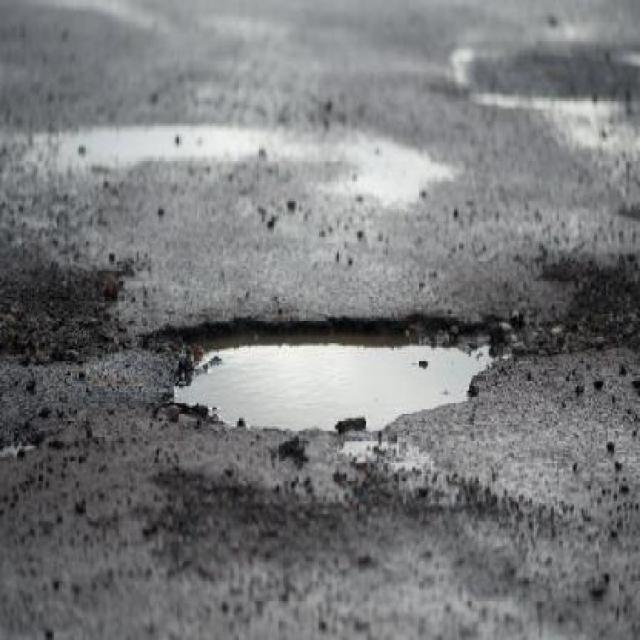pothole: (158, 305, 513, 436)
